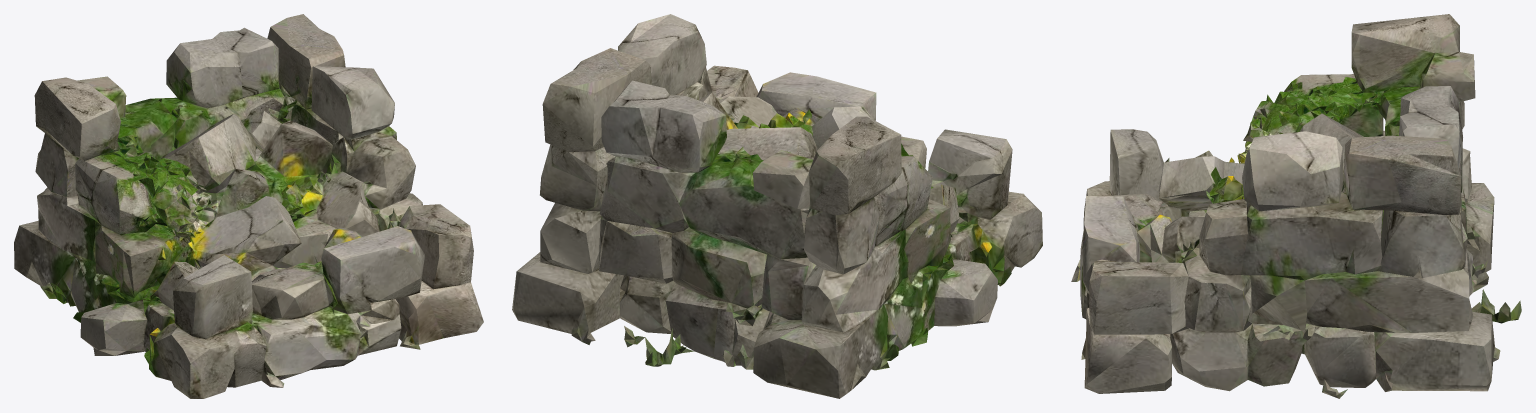
File: rubble.glb
3 views of the same model, side by side, from view 1: azimuth 30°, elevation 25°; view 2: azimuth 150°, elevation 25°; view 3: azimuth 270°, elevation 25° (orthographic). The views are drawn at different scales.
Bounding box in the file's own units: 1.66 × 1.01 × 1.76.
Materials: 1 (1 with a texture image).
